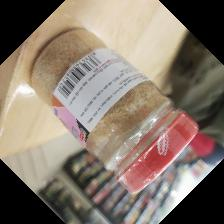Hao_hao: (29, 27, 200, 195)
